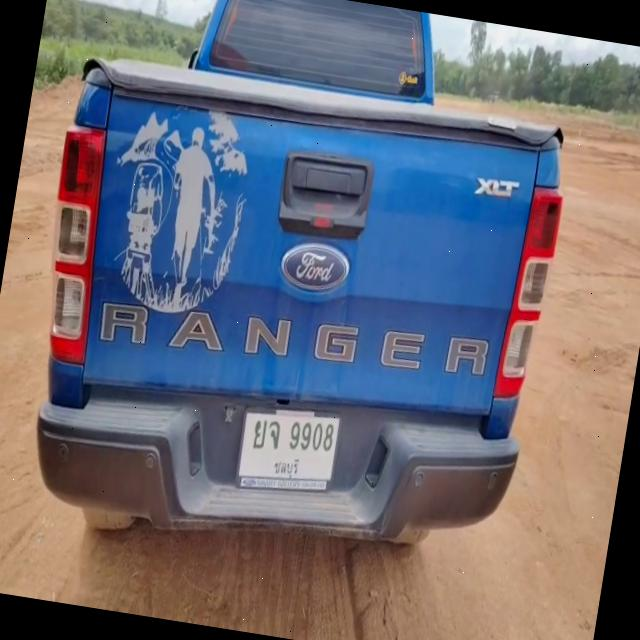Digit: (286, 417, 338, 458)
Licenseplate: (234, 402, 344, 498)
Provincename: (272, 452, 302, 479)
Thaichar: (251, 417, 283, 454)
